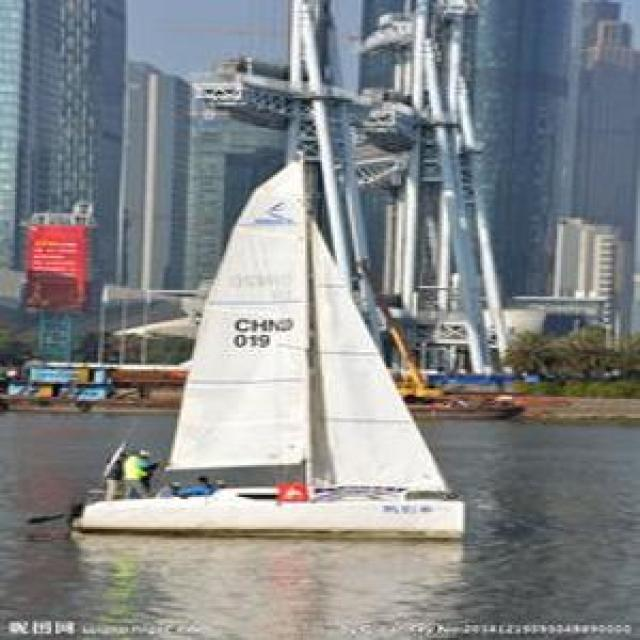sailboat: (68, 147, 469, 540)
